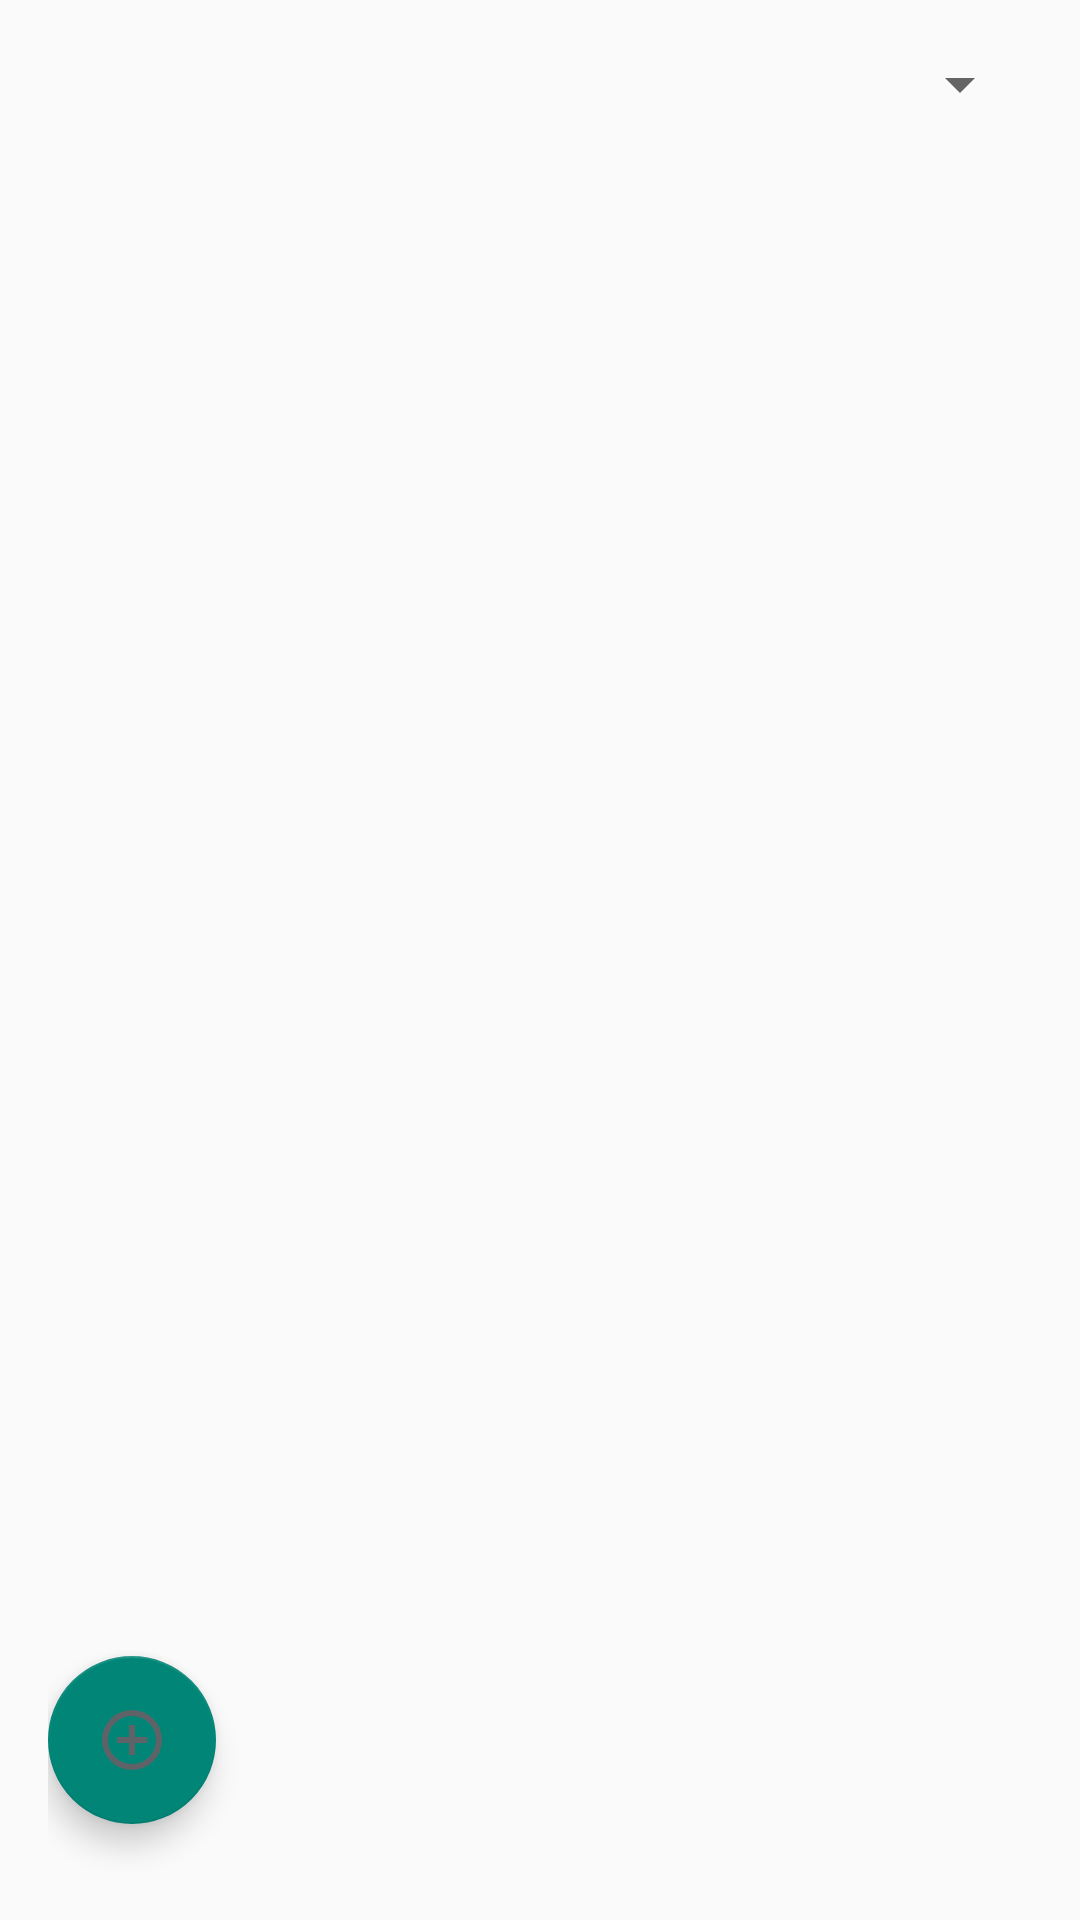

Icons on this 1080px×1920px Android screen, each with the point to tap as (x=x, y=y):
Add Note: (x=132, y=1740)
